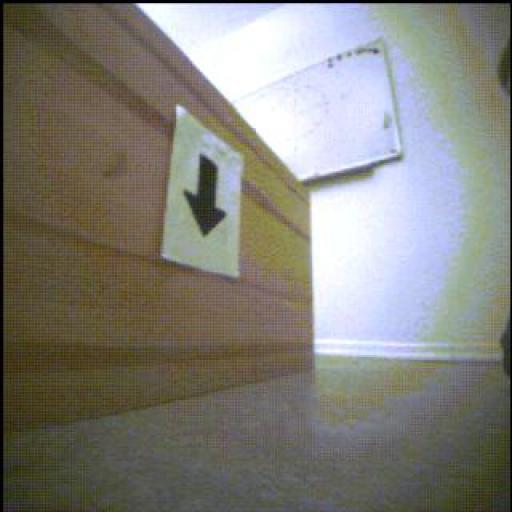Arrow: (185, 156, 227, 236)
